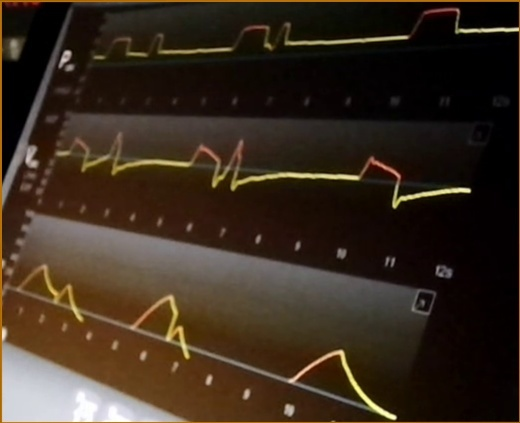Double_Triggering Flow: (57, 125, 470, 211)
Double_Triggering Volume: (14, 260, 396, 416)
